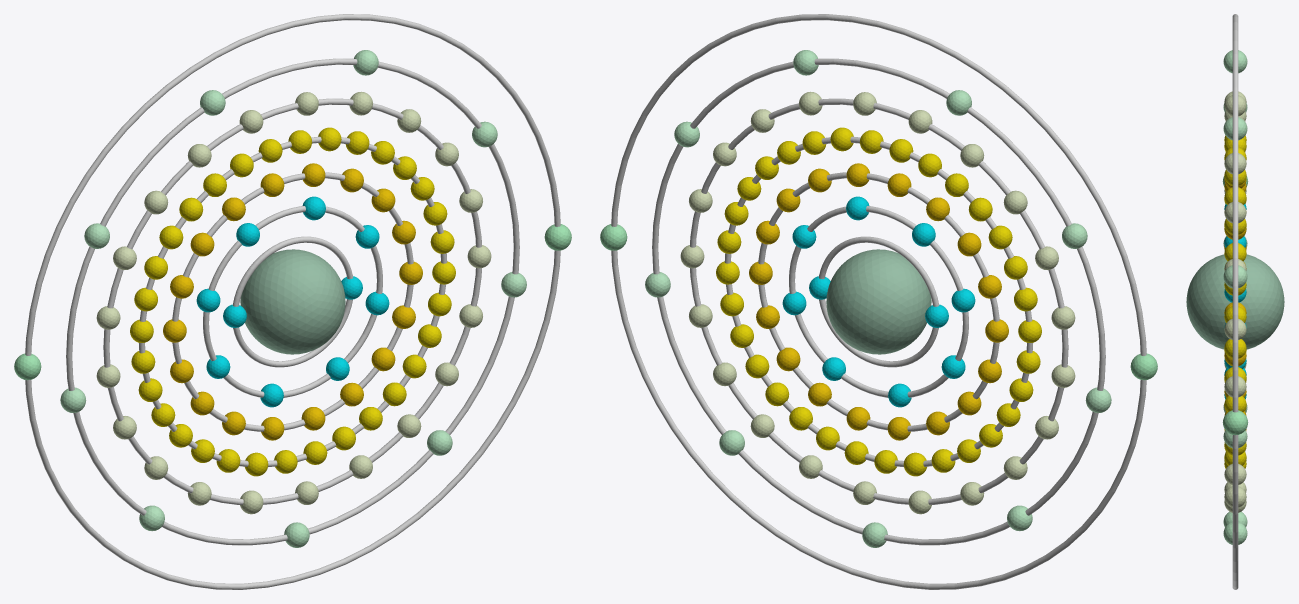
3 renders of one model, left to right at view 1: azimuth 30°, elevation 25°; view 2: azimuth 150°, elevation 25°; view 3: azimuth 270°, elevation 25°, orthographic. The views are drawn at different scales.
Visible parts, largest first — view 1: world; view 2: world; view 3: world.
Part boxes in pixels (left/top/right/bottom): world: left=14, top=14, right=571, bottom=589; world: left=600, top=14, right=1157, bottom=589; world: left=1186, top=14, right=1284, bottom=589.
Size of the model in its own units: 2.67 by 2.59 by 0.44.
